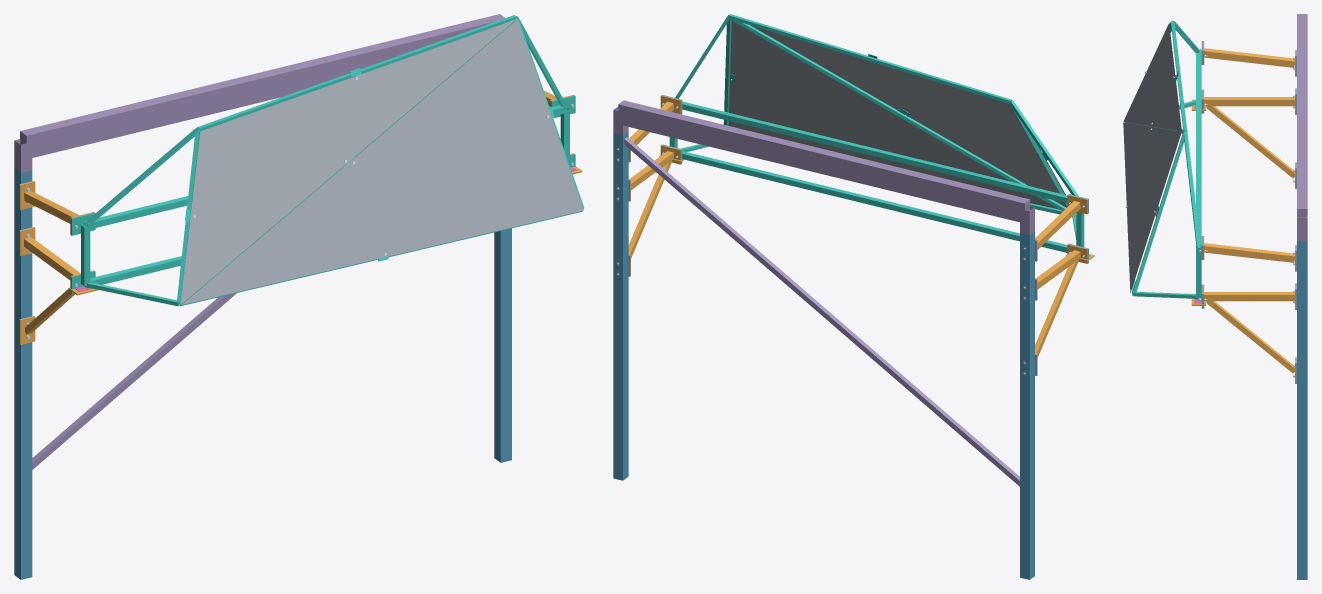
File: baaabs-panel-mounting-v3.glb
The picture shows the model from 3 angles, left to right: view 1: azimuth 30°, elevation 25°; view 2: azimuth 150°, elevation 25°; view 3: azimuth 270°, elevation 25°; orthographic projection. The views are drawn at different scales.
Visible parts, largest first — view 1: B-D-033 existing skin, B-D-034 existing skin, Existing roof longitudinal, C driver upright, D driver upright, Existing C-D side brace, Facet backing edge (1, 3), Cassette top rail, Cassette bottom rail, Facet corner pickup 3, Facet backing edge (0, 3), C-lower outrigger; view 2: B-D-033 existing skin, B-D-034 existing skin, Existing roof longitudinal, D driver upright, C driver upright, Existing C-D side brace, Cassette top rail, Cassette bottom rail, Facet backing edge (0, 1), Facet backing edge (1, 3), C lower outrigger brace, D lower outrigger brace (+2 smaller); view 3: B-D-033 existing skin, D driver upright, B-D-034 existing skin, Existing roof longitudinal, Cassette top rail, D-upper outrigger, C-upper outrigger, D-lower outrigger, C-lower outrigger, C lower outrigger brace, D lower outrigger brace, Facet backing edge (1, 2) (+5 smaller).
Part boxes in pixels (box(x1,y1,x2,y2)): B-D-033 existing skin: box(182, 19, 583, 304); B-D-034 existing skin: box(180, 19, 516, 304); Existing roof longitudinal: box(20, 14, 504, 158); C driver upright: box(14, 168, 32, 579); D driver upright: box(494, 228, 511, 462); Existing C-D side brace: box(32, 293, 236, 469); Facet backing edge (1, 3): box(197, 15, 516, 131); Cassette top rail: box(84, 105, 566, 229); Cassette bottom rail: box(84, 256, 181, 288); Facet corner pickup 3: box(84, 128, 197, 226); Facet backing edge (0, 3): box(177, 130, 199, 303); C-lower outrigger: box(24, 237, 80, 279); B-D-033 existing skin: box(728, 21, 1058, 209); B-D-034 existing skin: box(750, 25, 1067, 207); Existing roof longitudinal: box(618, 100, 1030, 223); D driver upright: box(613, 132, 628, 480); C driver upright: box(1020, 231, 1034, 579); Existing C-D side brace: box(624, 137, 1019, 486); Cassette top rail: box(682, 101, 1067, 203); Cassette bottom rail: box(682, 151, 1067, 252); Facet backing edge (0, 1): box(730, 19, 1066, 211); Facet backing edge (1, 3): box(728, 14, 1012, 103); C lower outrigger brace: box(1035, 260, 1078, 357); D lower outrigger brace: box(628, 161, 671, 258); B-D-033 existing skin: box(1123, 122, 1181, 293); D driver upright: box(1297, 241, 1307, 579); B-D-034 existing skin: box(1123, 23, 1181, 131); Existing roof longitudinal: box(1297, 14, 1307, 217); Cassette top rail: box(1196, 50, 1201, 247); D-upper outrigger: box(1204, 243, 1294, 262); C-upper outrigger: box(1204, 48, 1294, 67); D-lower outrigger: box(1204, 292, 1294, 301); C-lower outrigger: box(1204, 97, 1294, 106); C lower outrigger brace: box(1206, 106, 1294, 178); D lower outrigger brace: box(1206, 301, 1294, 373); Facet backing edge (1, 2): box(1132, 131, 1185, 293).
Size of the model in its own units: 3.41 by 3.28 by 1.29.
